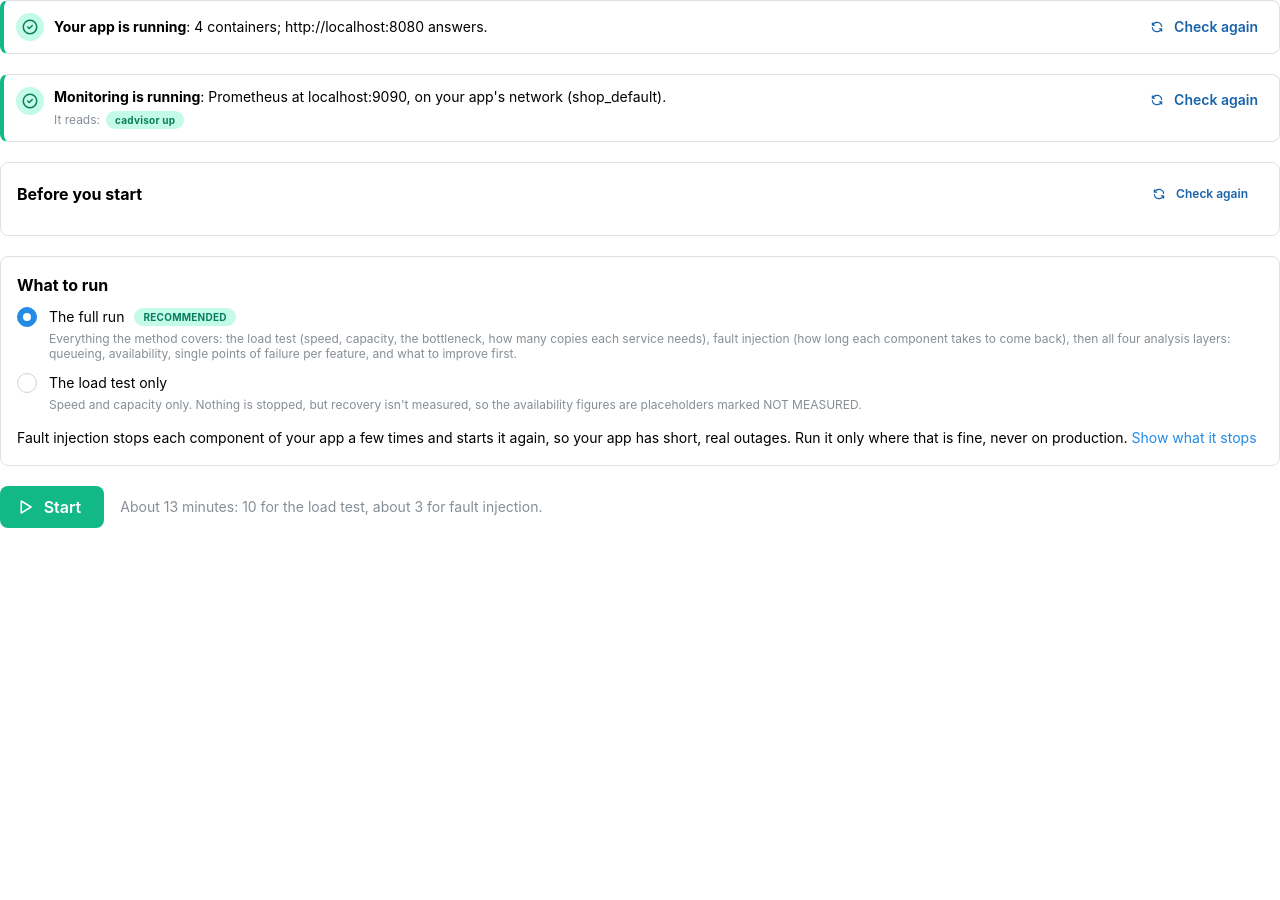
Test: the run step › runs everything by default, asking once with what would be stopped
This screenshot has width=1280, height=900.
Later steps or results of the test are not shown.
Expected: the radio button labelled "The full run recommended" is checked, top-left (17, 307), bottom-right (37, 327)
What coordinates should you click on to do the following:
click the button "Start"
I would click on:
 (52, 507)
Its box is top-left (0, 486), bottom-right (104, 528).
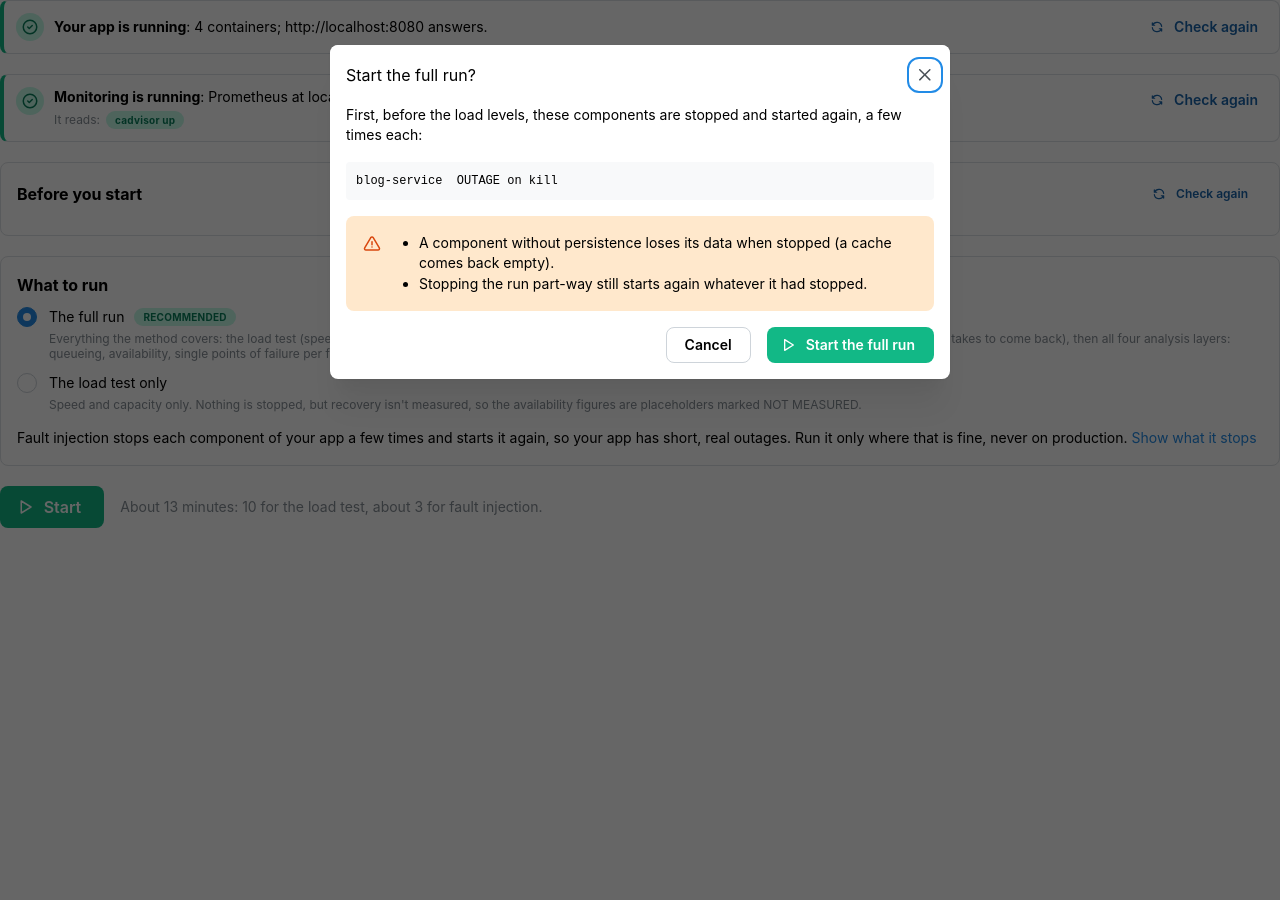
Expected: the heading "Start the full run?" is shown, top-left (346, 67), bottom-right (476, 83)
Expected: the text "blog-service OUTAGE on kill" is shown, top-left (346, 162), bottom-right (934, 200)
